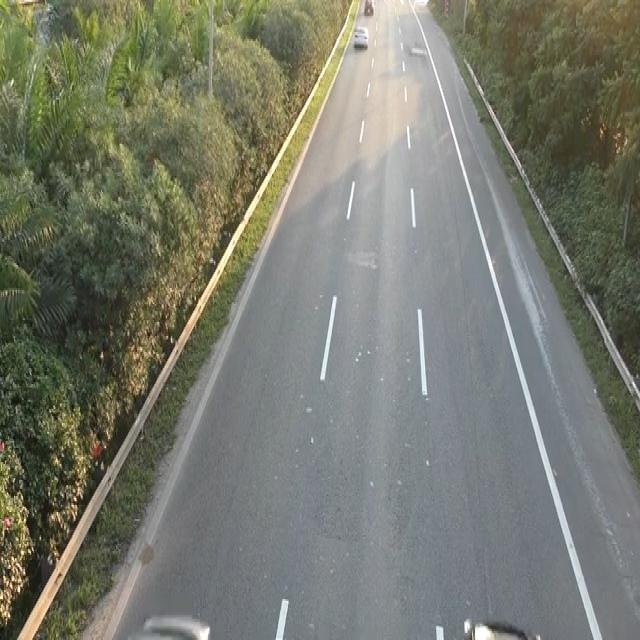bus: (352, 23, 369, 48)
